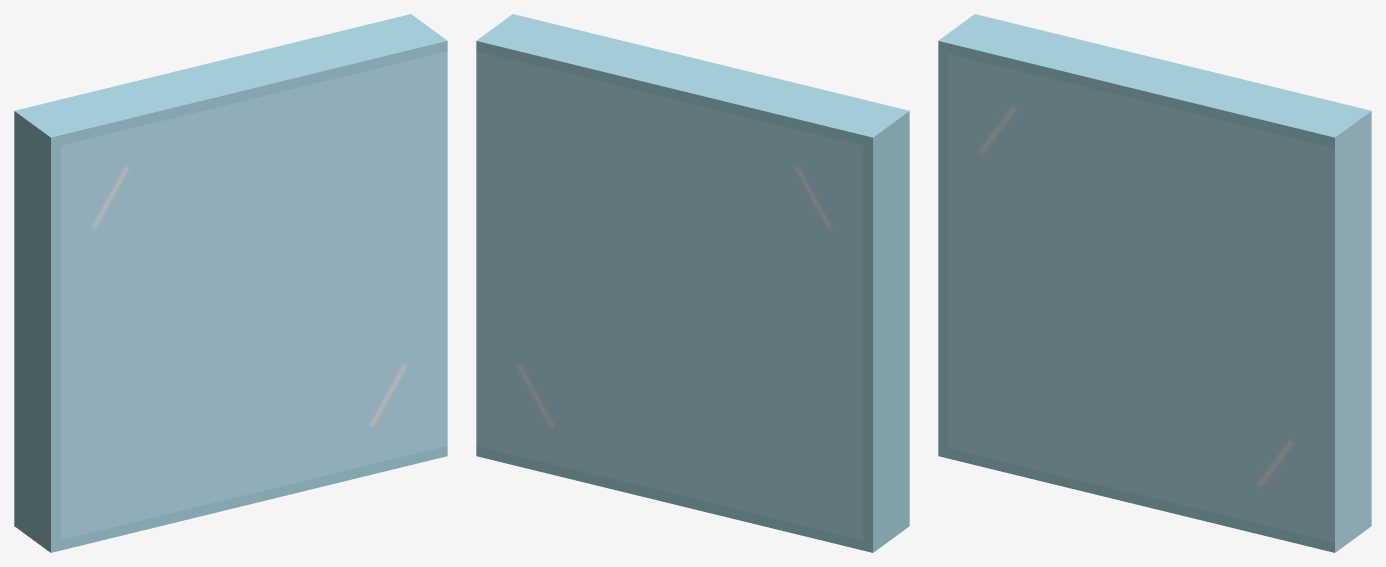
The model's file is GlassWindow.fbx.
The picture shows the model from 3 angles, left to right: view 1: azimuth 30°, elevation 25°; view 2: azimuth 150°, elevation 25°; view 3: azimuth 330°, elevation 25°; orthographic projection.
Parts seen in each view (by area): view 1: GlassWindow; view 2: GlassWindow; view 3: GlassWindow.
Part boxes in pixels (x1,y1,x2,y2): GlassWindow: (14,14,447,552); GlassWindow: (476,14,909,552); GlassWindow: (938,14,1371,552).
Size of the model in its own units: 100 by 100 by 16.
Materials: 2 (1 with a texture image).
